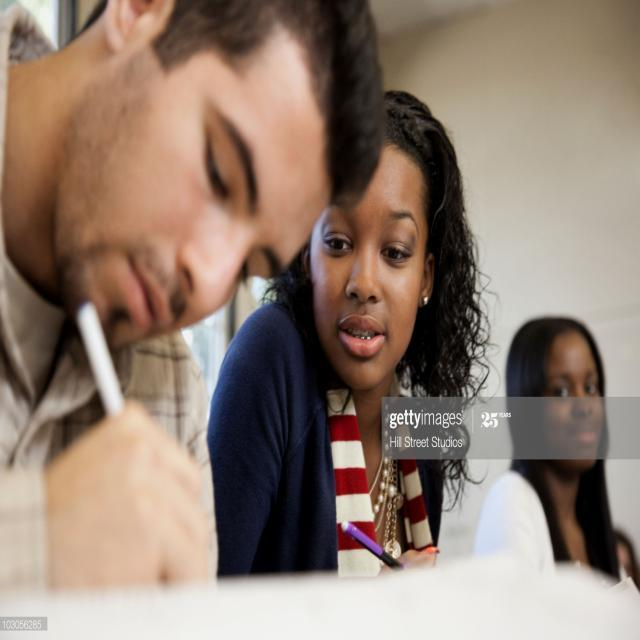cheating: (297, 63, 503, 409)
good: (0, 0, 387, 364)
